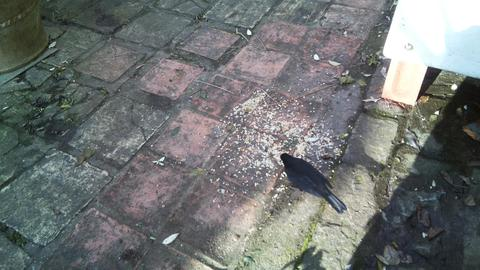blackbird: (280, 152, 347, 214)
